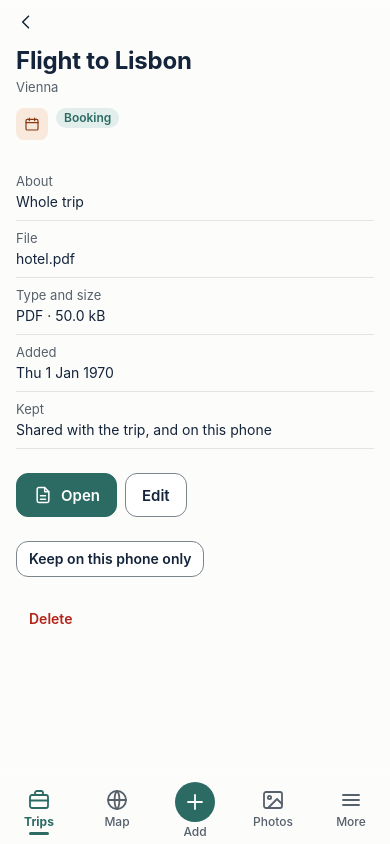
Test: a shared document can be kept on this phone only
The width and height of the screenshot is (390, 844).
Click the button with test id "unshare-document". click: x=110, y=559
box: [16, 541, 204, 577]
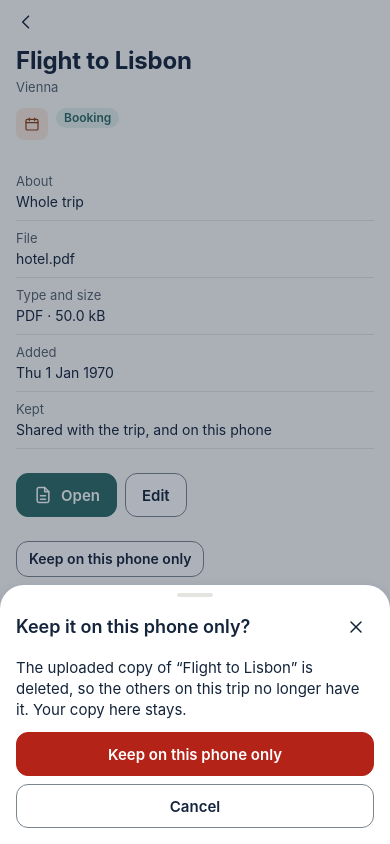
Click the button with test id "confirm-unshare-document". click: x=195, y=754
box: [16, 732, 374, 776]
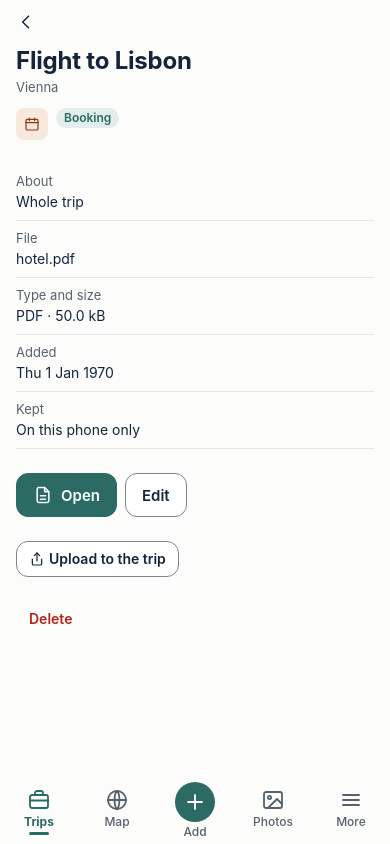
Expected: the element named "Kept: On this phone only" is shown, [16, 392, 374, 449]
